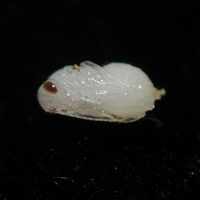insect: (37, 61, 164, 121)
